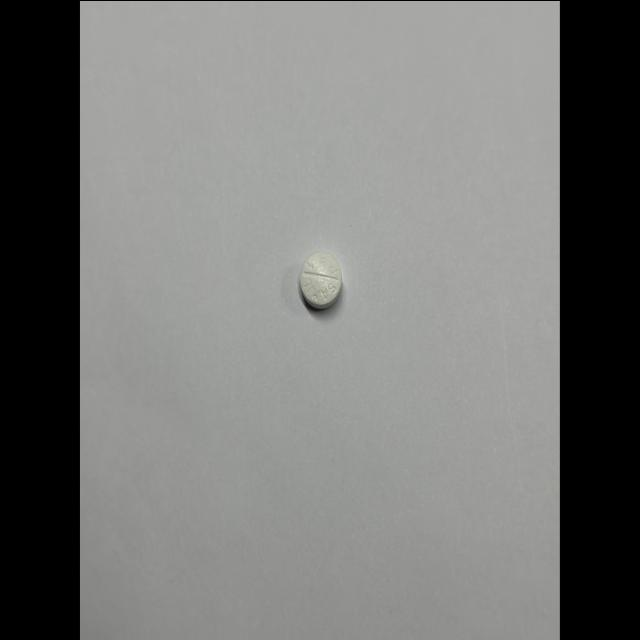Piller: (300, 250, 341, 308)
